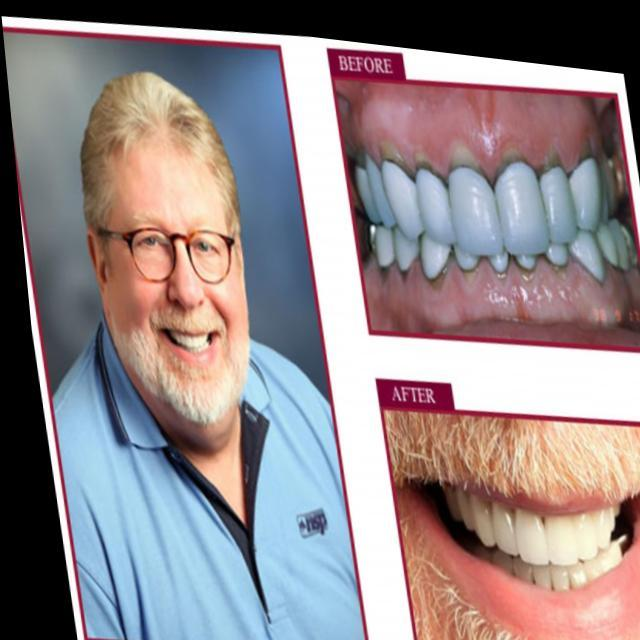Nonhelmet: (76, 68, 257, 428), (77, 69, 243, 241)
